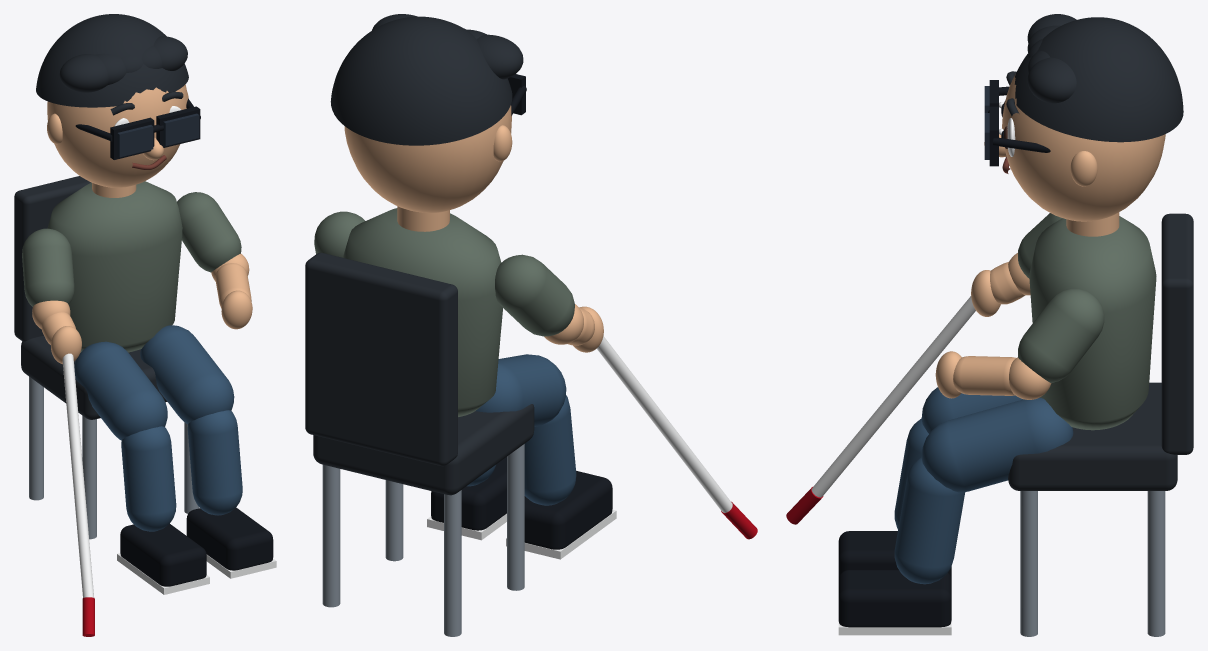
The picture shows the model from 3 angles, left to right: view 1: azimuth 30°, elevation 25°; view 2: azimuth 150°, elevation 25°; view 3: azimuth 270°, elevation 25°; orthographic projection. The views are drawn at different scales.
Visible parts, largest first — view 1: torso, muslo (×2), pierna (×2), zapato (×2), cabello, manga (×2), cabeza, pata_silla (×3), respaldo, mechon (×3), baston_blanco, asiento (+9 smaller); view 2: respaldo, cabello, torso, pata_silla (×4), cabeza, asiento, zapato (×2), manga (×2), pierna, muslo, baston_blanco, mechon (+3 smaller); view 3: torso, cabello, muslo (×2), cabeza, asiento, zapato (×2), respaldo, pierna (×2), manga (×2), pata_silla (×2), baston_blanco, antebrazo (×2) (+8 smaller).
Boxes of the visible parts, x1=… form: torso: x1=47, y1=181, x2=182, y2=352; muslo (×2): x1=74, y1=325, x2=234, y2=440; pierna (×2): x1=121, y1=410, x2=242, y2=531; zapato (×2): x1=120, y1=507, x2=273, y2=586; cabello: x1=36, y1=14, x2=188, y2=107; manga (×2): x1=22, y1=192, x2=241, y2=306; cabeza: x1=47, y1=84, x2=187, y2=187; pata_silla (×3): x1=29, y1=376, x2=199, y2=539; respaldo: x1=14, y1=176, x2=91, y2=341; mechon (×3): x1=59, y1=36, x2=187, y2=92; baston_blanco: x1=62, y1=353, x2=94, y2=597; asiento: x1=21, y1=335, x2=167, y2=419; respaldo: x1=305, y1=252, x2=457, y2=466; cabello: x1=330, y1=16, x2=512, y2=145; torso: x1=343, y1=208, x2=502, y2=416; pata_silla (×4): x1=322, y1=444, x2=524, y2=636; cabeza: x1=344, y1=105, x2=511, y2=212; asiento: x1=313, y1=404, x2=534, y2=495; zapato (×2): x1=431, y1=457, x2=612, y2=549; manga (×2): x1=314, y1=211, x2=574, y2=336; pierna: x1=524, y1=395, x2=576, y2=505; muslo: x1=476, y1=354, x2=566, y2=426; baston_blanco: x1=596, y1=336, x2=732, y2=512; mechon: x1=477, y1=34, x2=523, y2=79; torso: x1=1029, y1=216, x2=1156, y2=430; cabello: x1=1014, y1=17, x2=1183, y2=142; muslo (×2): x1=921, y1=387, x2=1073, y2=492; cabeza: x1=1002, y1=74, x2=1165, y2=221; asiento: x1=1008, y1=382, x2=1177, y2=490; zapato (×2): x1=838, y1=531, x2=951, y2=627; respaldo: x1=1161, y1=213, x2=1193, y2=454; pierna (×2): x1=894, y1=418, x2=965, y2=584; manga (×2): x1=1018, y1=213, x2=1104, y2=382; pata_silla (×2): x1=1020, y1=491, x2=1165, y2=636; baston_blanco: x1=811, y1=296, x2=975, y2=497; antebrazo (×2): x1=953, y1=262, x2=1025, y2=395.
Bounding box in the file's own units: 1.02 × 1.83 × 1.15.
